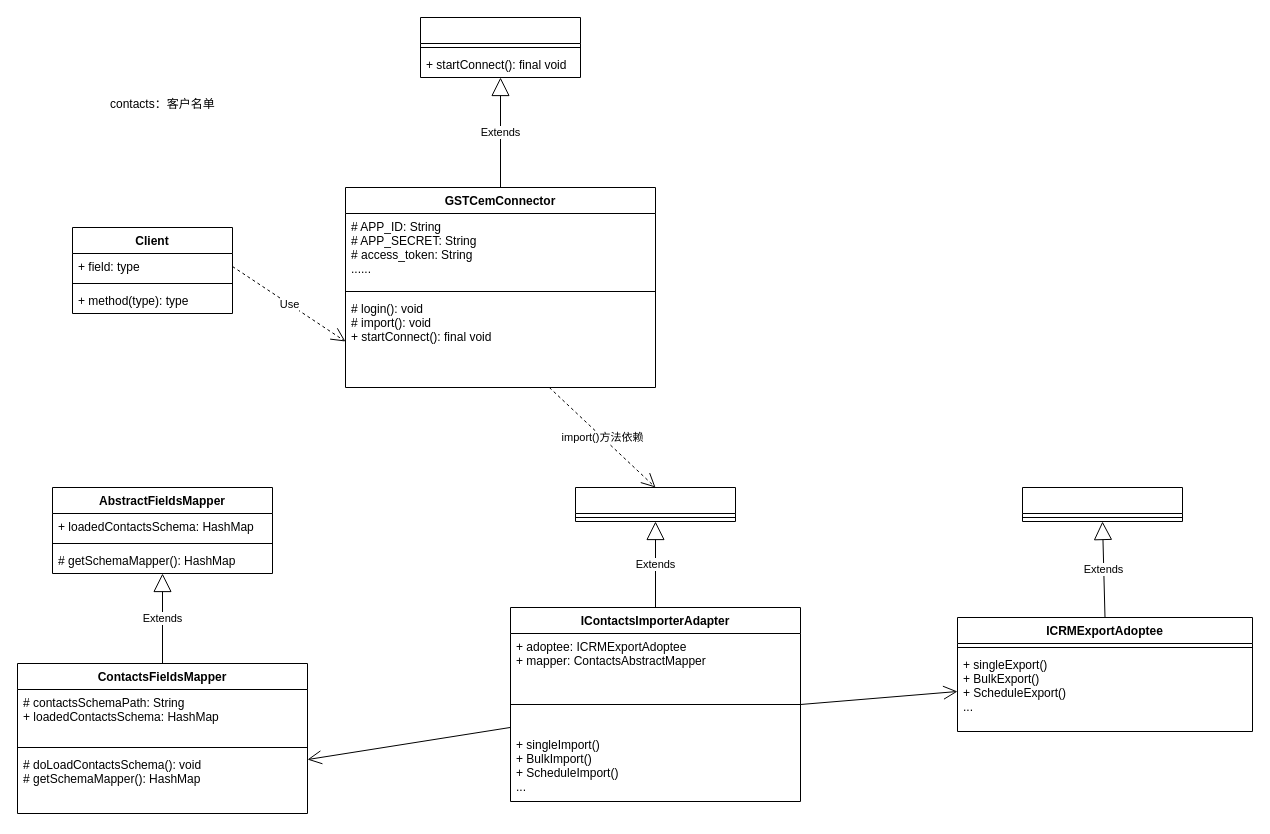
The diagram is 1270 pixels wide and 834 high, and some of its shapes have lost their labels. Here are the shapes that lost their labels. From the top down, the box of each, then its label:
(420, 16, 580, 78): IGSTConnector
(574, 486, 736, 522): ImportAdapterInterface
(1022, 486, 1182, 522): ExportAdopteeInterface
